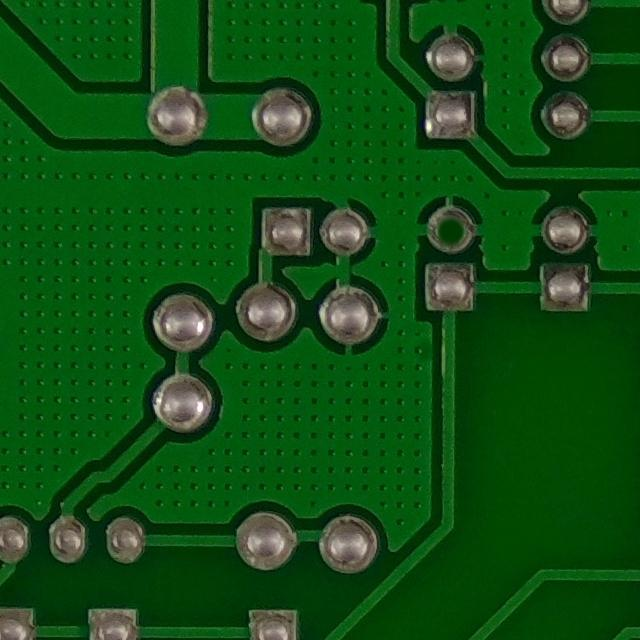missing_hole: (419, 189, 479, 254)
